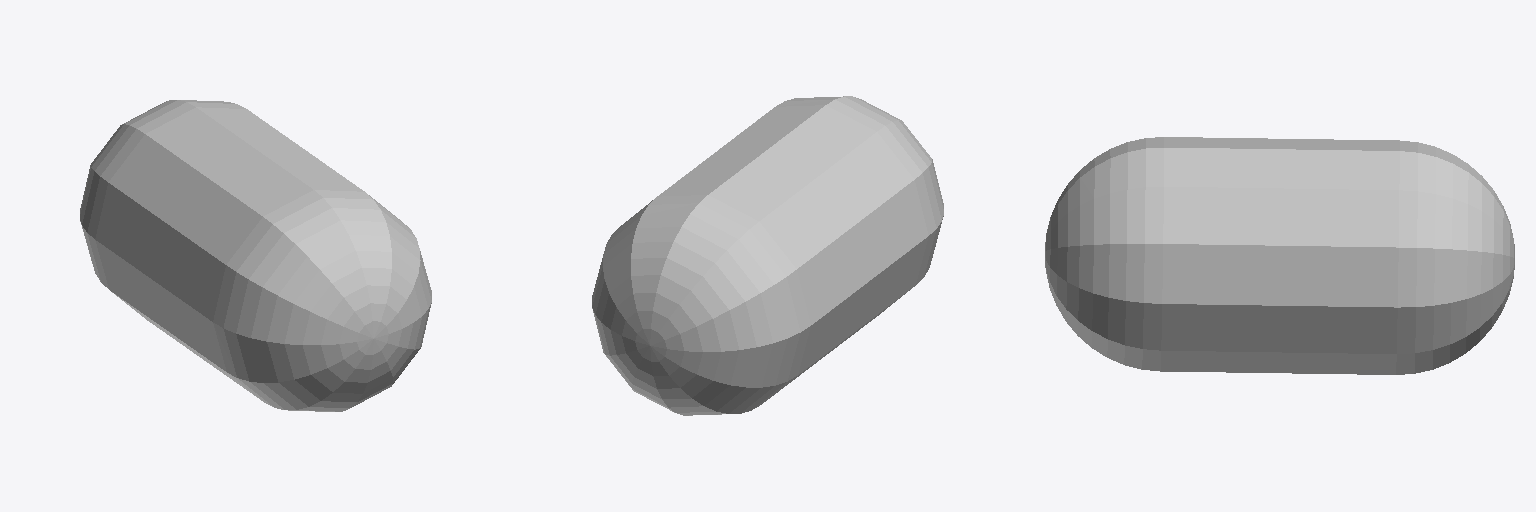
Rendered from bullet1.obj.
The picture shows the model from 3 angles: view 1: azimuth 30°, elevation 25°; view 2: azimuth 150°, elevation 25°; view 3: azimuth 270°, elevation 25°; orthographic projection.
Parts seen in each view (by area): view 1: Capsule; view 2: Capsule; view 3: Capsule.
Boxes of the visible parts, box(x1,y1,x2,y2) form: Capsule: box(80, 100, 431, 411); Capsule: box(592, 96, 943, 415); Capsule: box(1045, 137, 1514, 374).
Bounding box in the file's own units: 1 × 1.02 × 2.